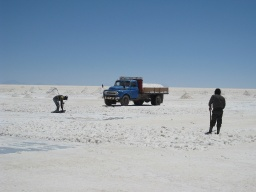person: (204, 87, 228, 137), (52, 91, 69, 114)
truck: (97, 74, 171, 108)
